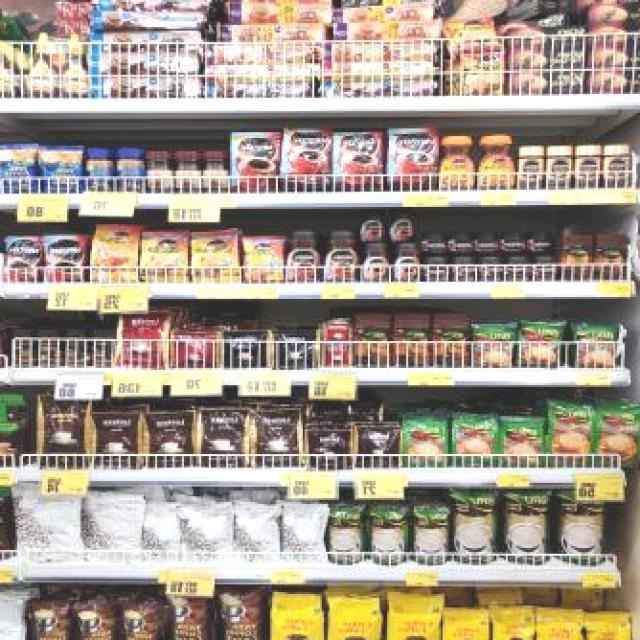Coffee: (390, 128, 438, 190), (334, 132, 383, 192), (282, 130, 329, 190), (232, 132, 278, 192), (92, 226, 138, 282), (142, 230, 188, 282), (193, 232, 238, 282), (478, 135, 516, 189), (462, 48, 504, 96), (440, 136, 476, 190), (46, 235, 86, 282), (244, 236, 284, 282), (286, 232, 322, 282), (324, 232, 358, 282), (5, 236, 40, 281), (604, 146, 630, 188), (518, 146, 544, 188), (362, 243, 390, 282), (576, 144, 599, 187), (548, 146, 571, 188), (388, 208, 416, 242), (394, 242, 418, 281), (361, 210, 386, 242), (528, 229, 557, 254), (531, 256, 559, 280), (473, 230, 498, 254), (420, 232, 444, 256), (478, 257, 502, 281), (446, 232, 469, 256), (500, 230, 523, 253), (506, 256, 528, 280), (424, 258, 448, 280), (452, 258, 474, 280)
